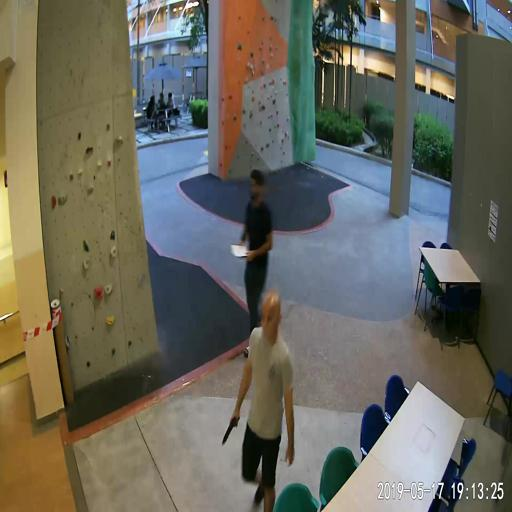pistol: (222, 413, 240, 446)
